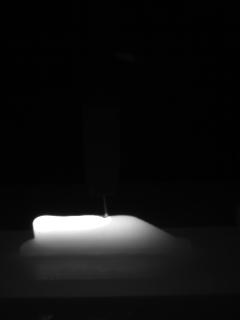tip_wire_left: (87, 190, 108, 216)
tip_wire_right: (105, 190, 117, 217)
